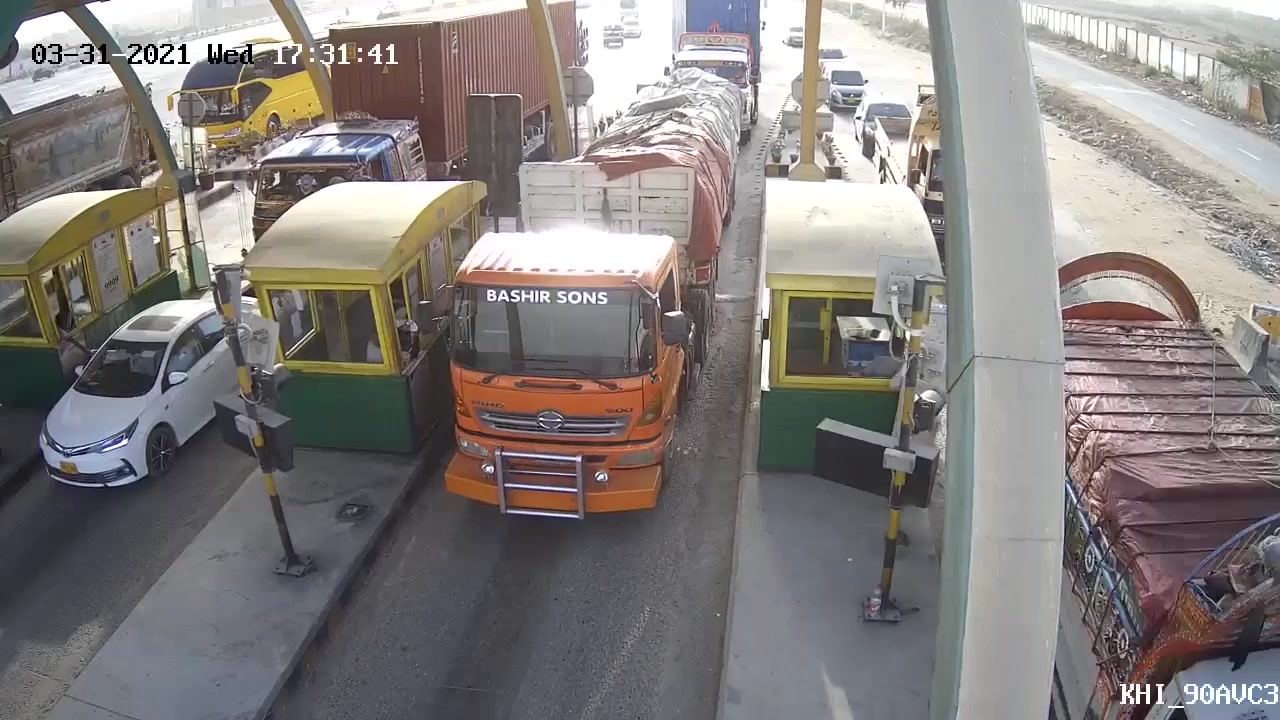F6: (442, 70, 748, 531)
